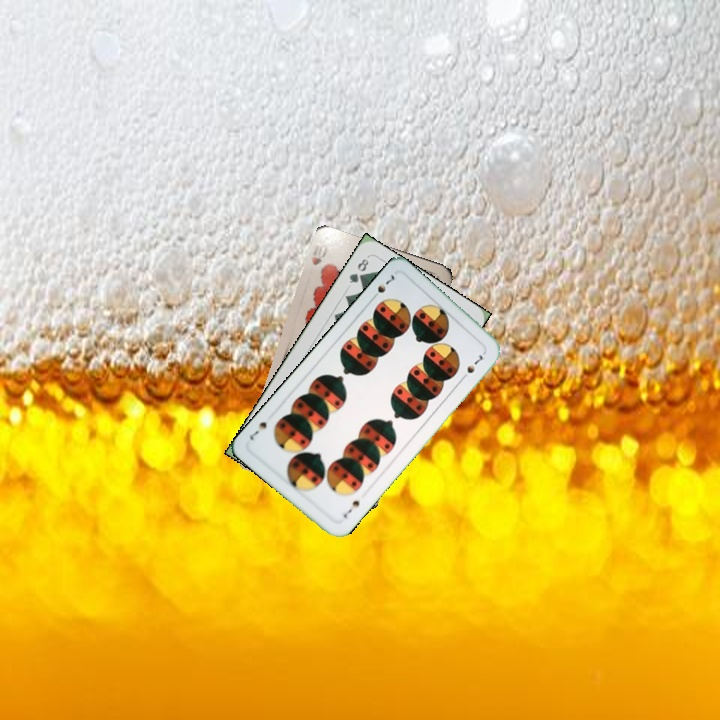G8: (345, 254, 371, 286)
H10: (307, 238, 330, 268)
S7: (367, 270, 397, 303), (339, 496, 362, 521)
